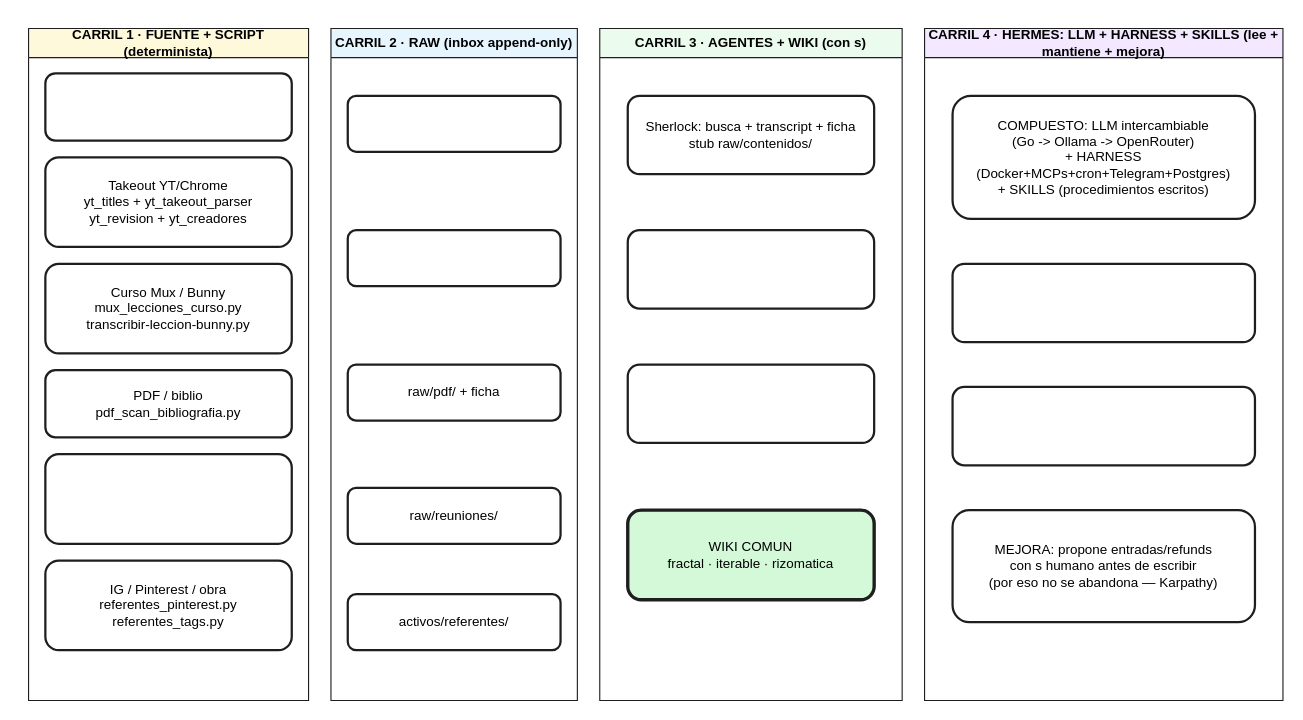
The diagram is 1303 pixels wide and 720 high, and some of its shapes have lost their labels. Each missing label, with the centre of its shape:
"Contenidos: formatea + template raw/contenidos -> wiki/fuentes" goes at (x=750, y=268).
"LEE: vault-mcp (leer/buscar/indice) cuaderno = memoria real" goes at (x=1103, y=302).
"MANTIENE: curar-cuaderno cron digest 07:00 · lint trimestral" goes at (x=1103, y=425).
"raw/research/ + cache" goes at (x=453, y=257).
"raw/yt/transcripts/" goes at (x=453, y=123).
"Reunion Fathom n8n Fathom Core (cron) import_fathom_ppi_manual.py" goes at (x=168, y=498).
"Vaultworm 1x/sem: digest glosario + estudio" goes at (x=750, y=403).
"YouTube suelto transcribir_youtube.py" goes at (x=168, y=106).
